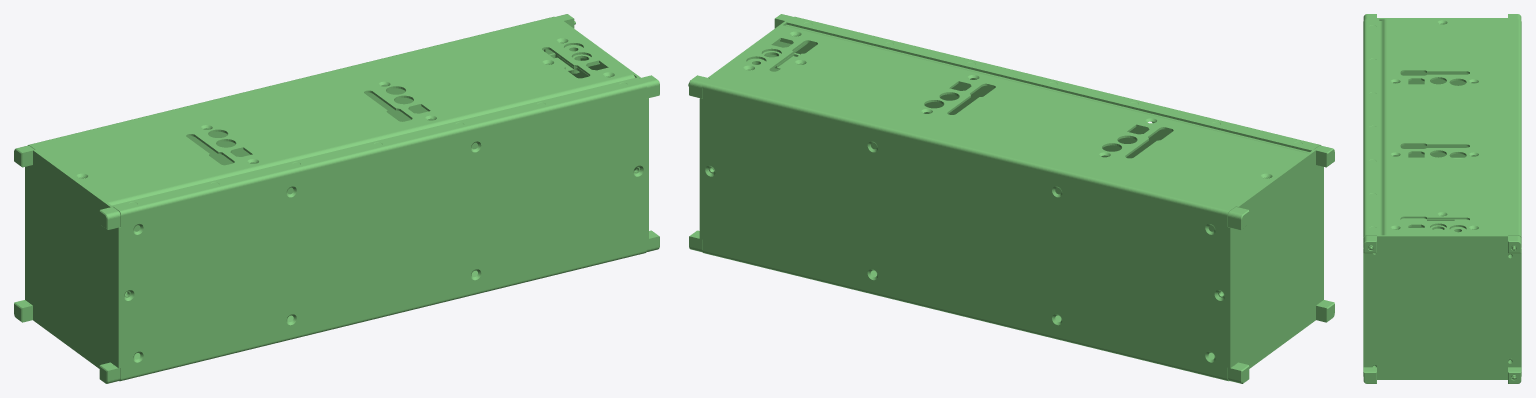
File: cubesat.obj
3 renders of one model, left to right at view 1: azimuth 30°, elevation 25°; view 2: azimuth 150°, elevation 25°; view 3: azimuth 270°, elevation 25°, orthographic. The views are drawn at different scales.
Visible parts, largest first — view 1: Untitled; view 2: Untitled; view 3: Untitled.
Boxes of the visible parts, left/top/right/bottom form: Untitled: left=14, top=14, right=659, bottom=383; Untitled: left=688, top=14, right=1334, bottom=383; Untitled: left=1363, top=14, right=1521, bottom=383.
Bounding box in the file's own units: 0.343 × 0.1 × 0.1.
